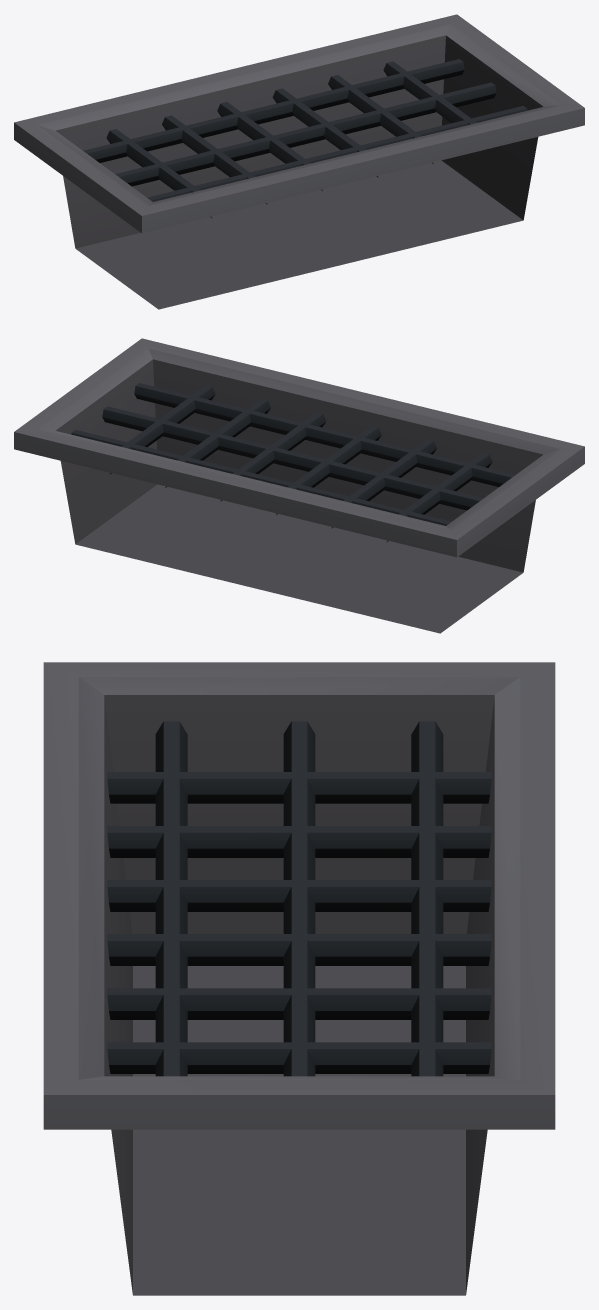
Rendered from floor_tile_grate.glb.
3 renders of one model, top to bottom at view 1: azimuth 30°, elevation 25°; view 2: azimuth 150°, elevation 25°; view 3: azimuth 270°, elevation 25°, orthographic. The views are drawn at different scales.
Parts seen in each view (by area): view 1: floor_tile_grate; view 2: floor_tile_grate; view 3: floor_tile_grate.
Boxes of the visible parts, x1=… form: floor_tile_grate: x1=14, y1=14, x2=584, y2=309; floor_tile_grate: x1=14, y1=338, x2=584, y2=633; floor_tile_grate: x1=43, y1=662, x2=555, y2=1295.
Bounding box in the file's own units: 4 × 1.03 × 2.
1 material, 1 textured.
